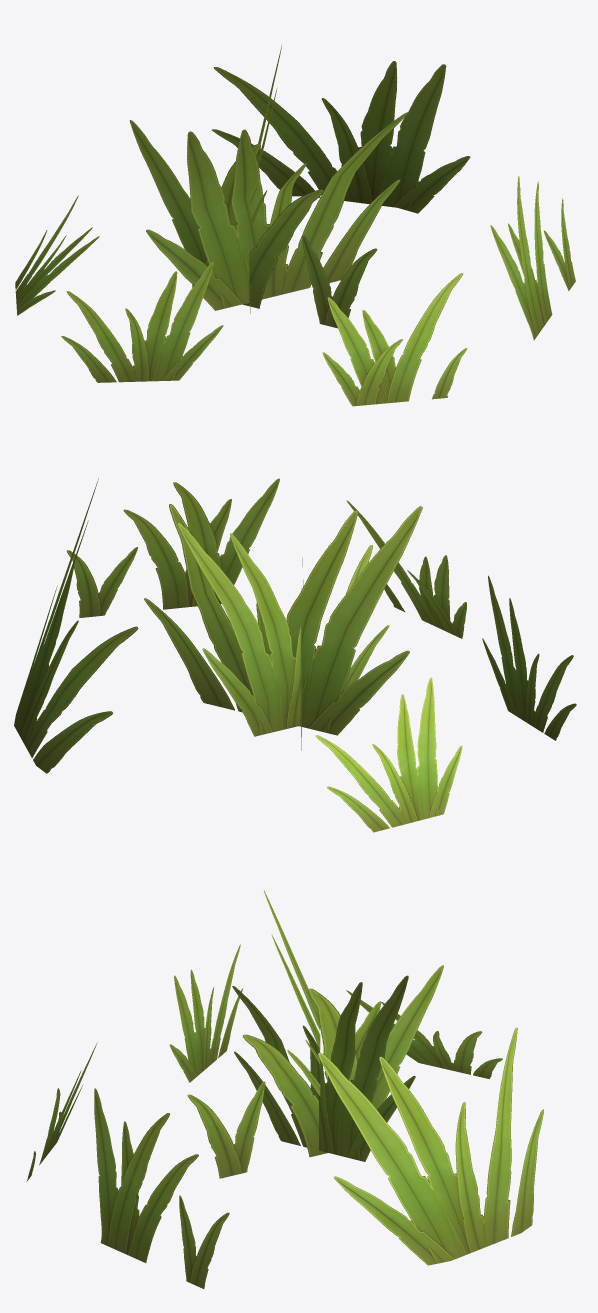
The model's file is Grass03.bak.fbx.
3 views of the same model, one above another, from view 1: azimuth 30°, elevation 25°; view 2: azimuth 150°, elevation 25°; view 3: azimuth 270°, elevation 25° (orthographic). The views are drawn at different scales.
Visible parts, largest first — view 1: Stylized_Grass_alpha_4_LOD0; view 2: Stylized_Grass_alpha_4_LOD0; view 3: Stylized_Grass_alpha_4_LOD0.
Boxes of the visible parts, box(x1,y1,x2,y2) form: Stylized_Grass_alpha_4_LOD0: box(15, 45, 575, 406); Stylized_Grass_alpha_4_LOD0: box(14, 478, 576, 832); Stylized_Grass_alpha_4_LOD0: box(26, 890, 543, 1288).
Size of what is drawn, in the model's own units: 49.56 by 20.28 by 45.69.
